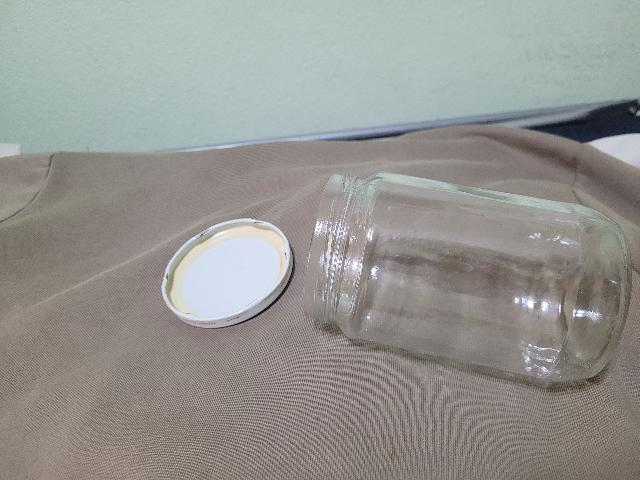Cam: (308, 171, 630, 390)
Metal: (159, 211, 294, 329)
